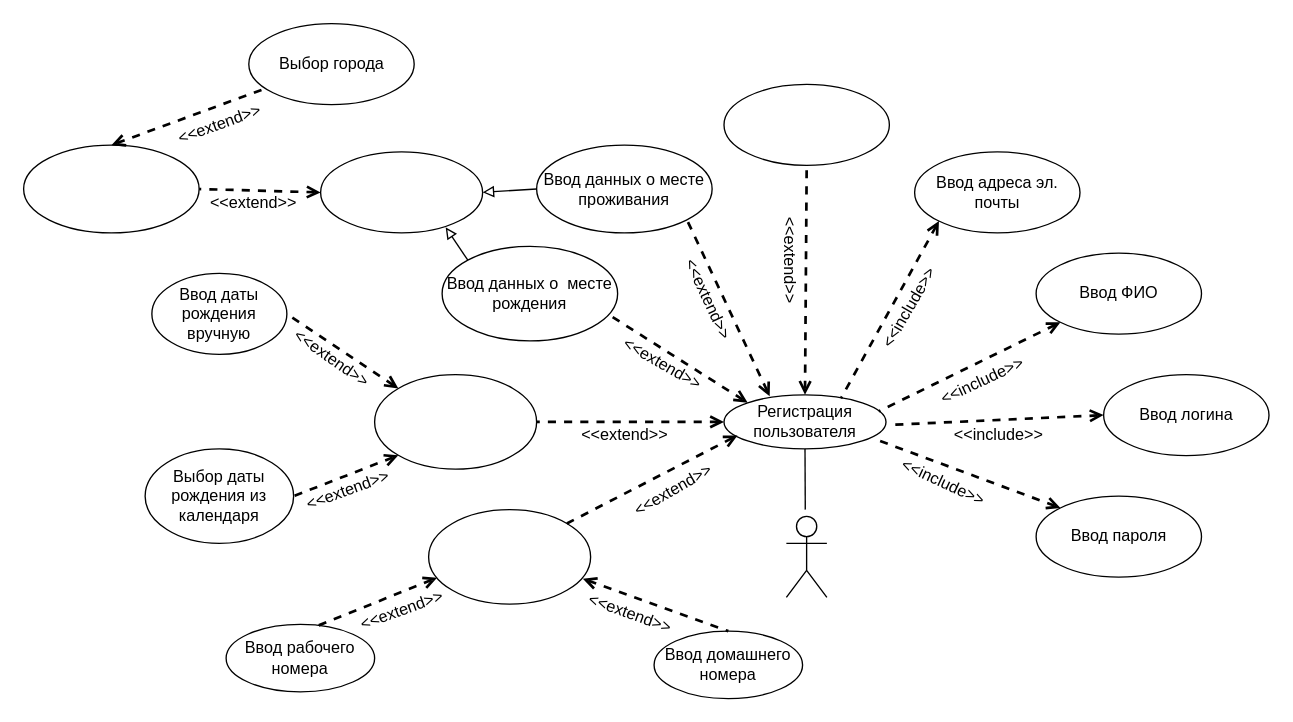
The diagram is 1293 pixels wide and 722 high, and some of its shapes have lost their labels. The centre of each missing label's shape, as x and y in pixels:
Ввод адреса: the point at 401,192
Ввод даты рождения: the point at 455,421
Ввод номера телефона: the point at 509,556
Выбор страны: the point at 110,188
Добавление фото профиля: the point at 806,124
Пользователь: the point at 806,556
